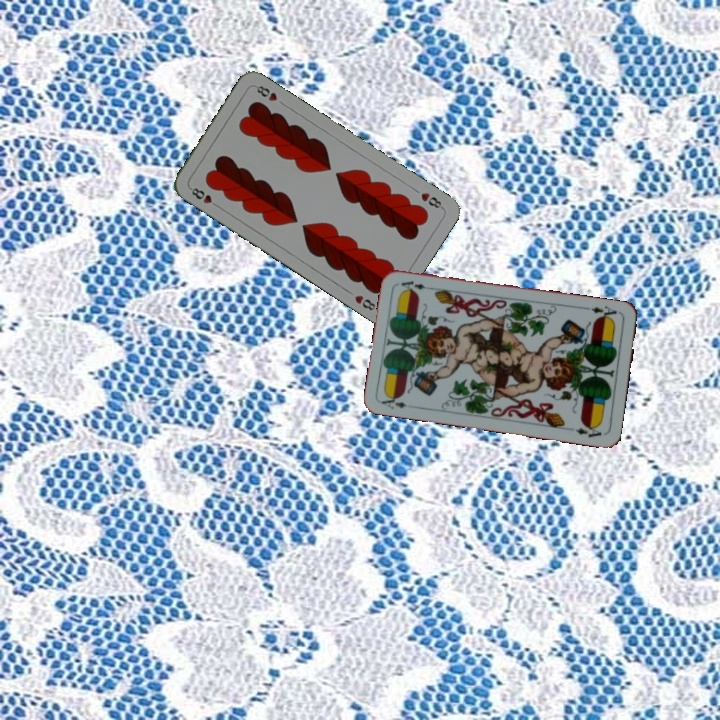EA: (587, 302, 623, 323), (377, 391, 409, 412)
H8: (186, 183, 222, 210), (417, 188, 446, 211)
